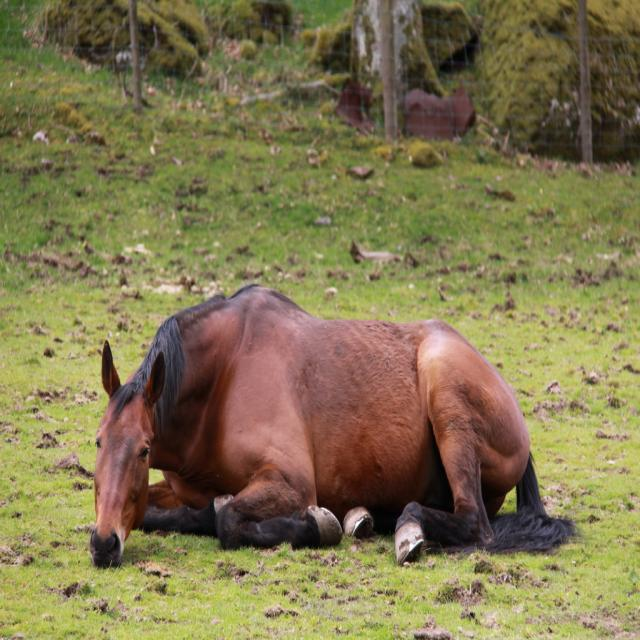Horse: (88, 283, 574, 571)
